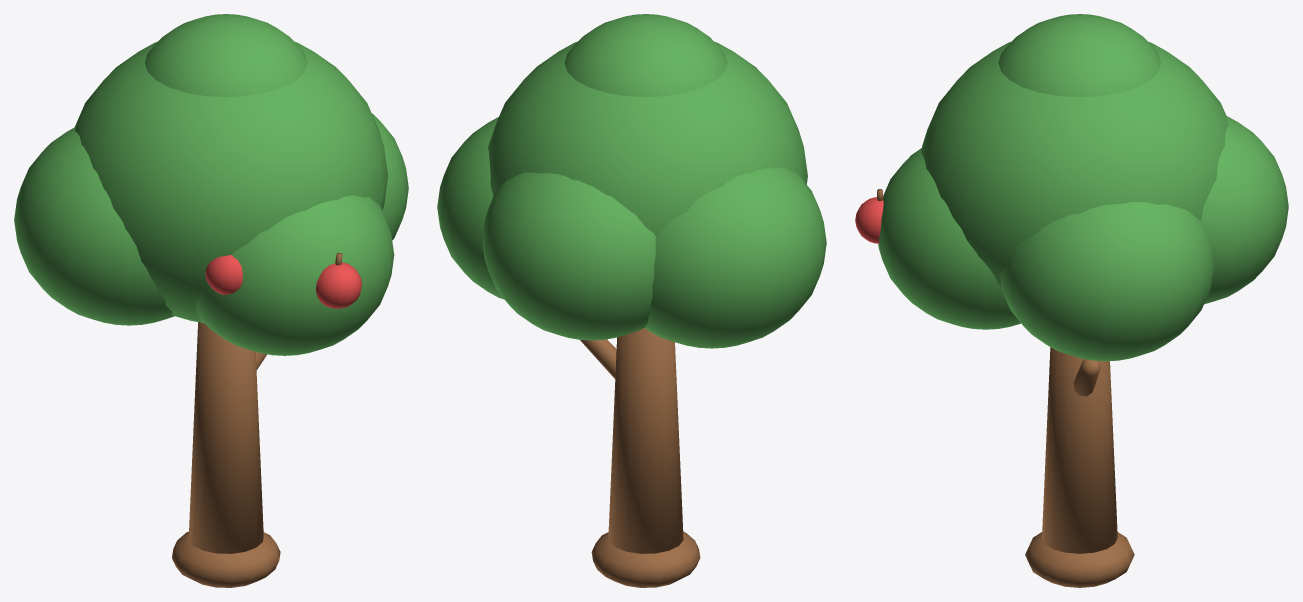
Rendered from fruit-tree.glb.
The picture shows the model from 3 angles, left to right: view 1: azimuth 30°, elevation 25°; view 2: azimuth 150°, elevation 25°; view 3: azimuth 270°, elevation 25°; orthographic projection.
Parts seen in each view (by area): view 1: canopy, trunk; view 2: canopy, trunk; view 3: canopy, trunk.
Part boxes in pixels (x1,y1,x2,y2): canopy: (14,14,408,355); trunk: (172,322,280,587); canopy: (437,14,826,348); trunk: (580,328,700,587); canopy: (855,14,1288,361); trunk: (1025,347,1134,587).
Bounding box in the file's own units: 1.6 × 2.34 × 1.66.
